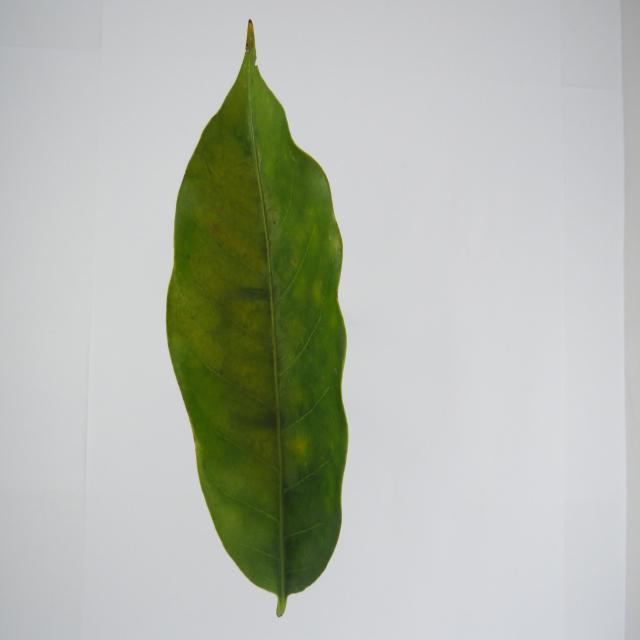DeficienciaNutricional-Calcio: (166, 22, 348, 617)
